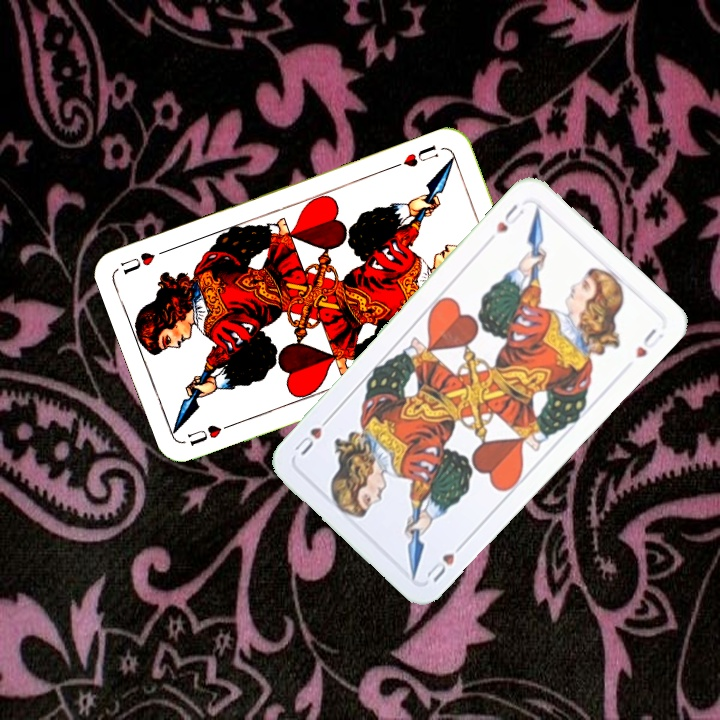HU: (422, 537, 469, 586), (183, 418, 238, 449), (389, 140, 441, 171), (491, 200, 527, 237)
